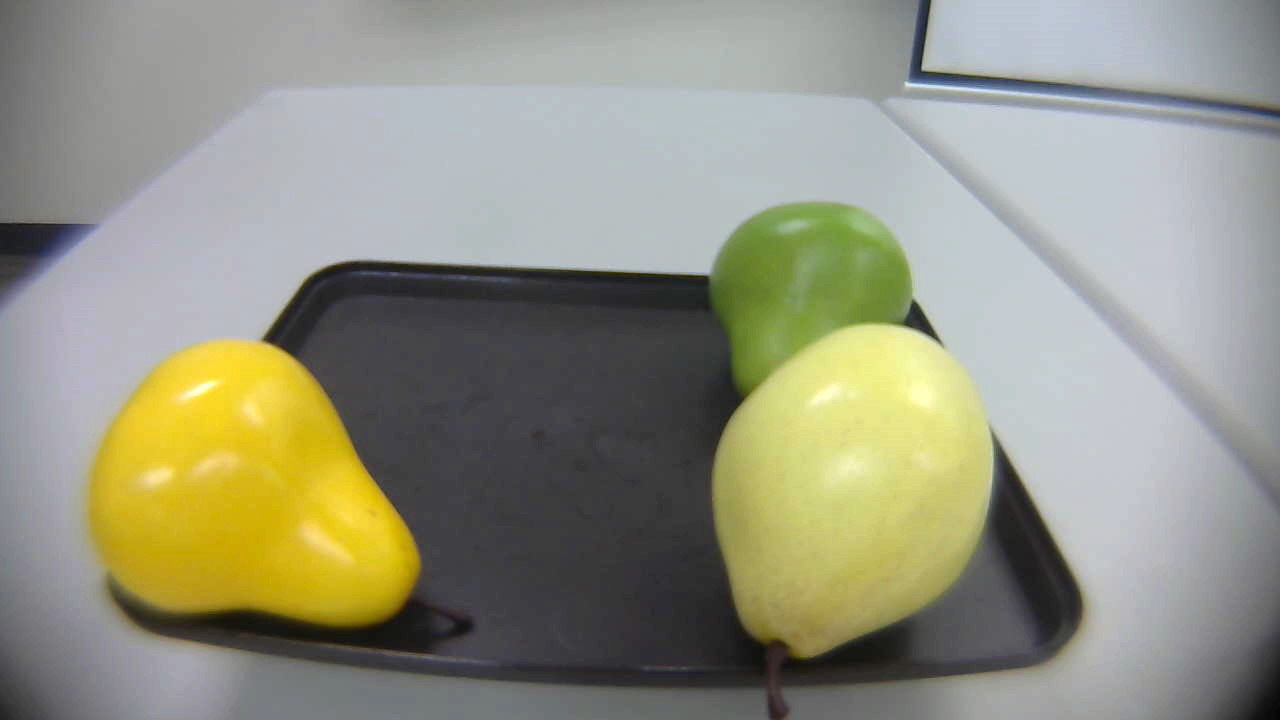green pear: (678, 188, 938, 408)
western pear: (701, 324, 999, 708)
yellow pear: (80, 329, 514, 650)
